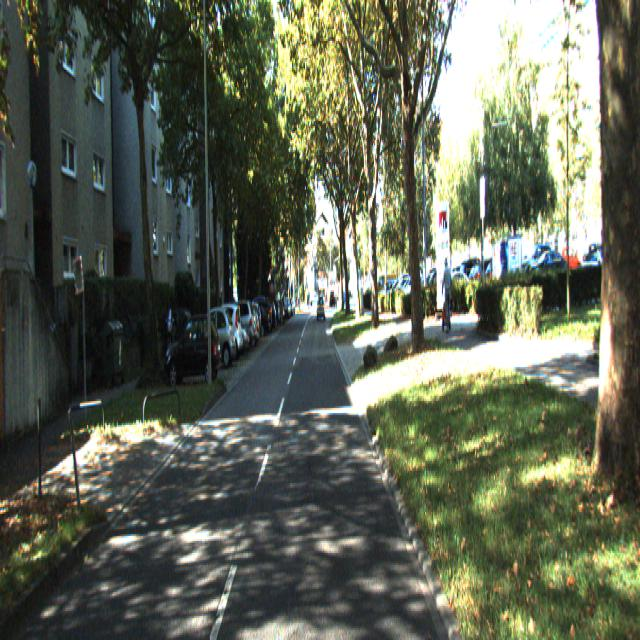Car: (164, 317, 222, 391), (191, 306, 237, 372), (201, 305, 245, 364)
